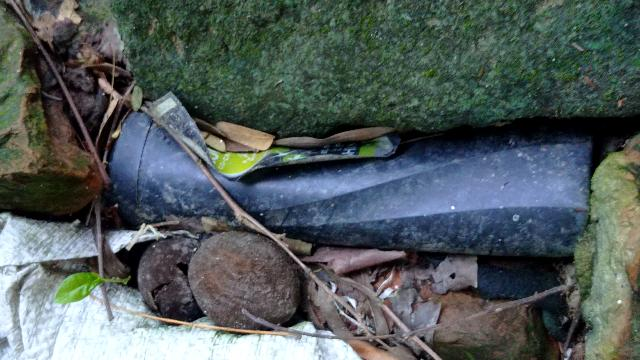hardplastic: (106, 96, 599, 261)
